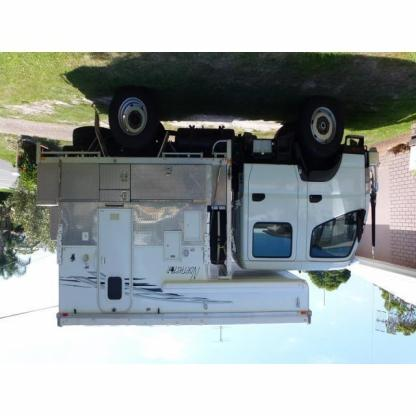truck: (37, 92, 380, 325)
